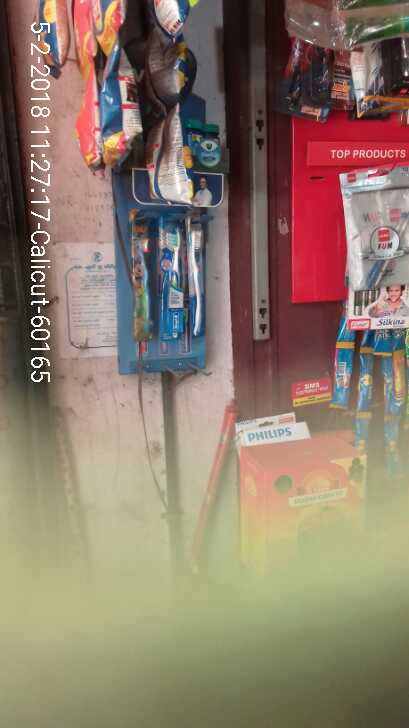oralb: (154, 224, 186, 336), (186, 224, 211, 336)
